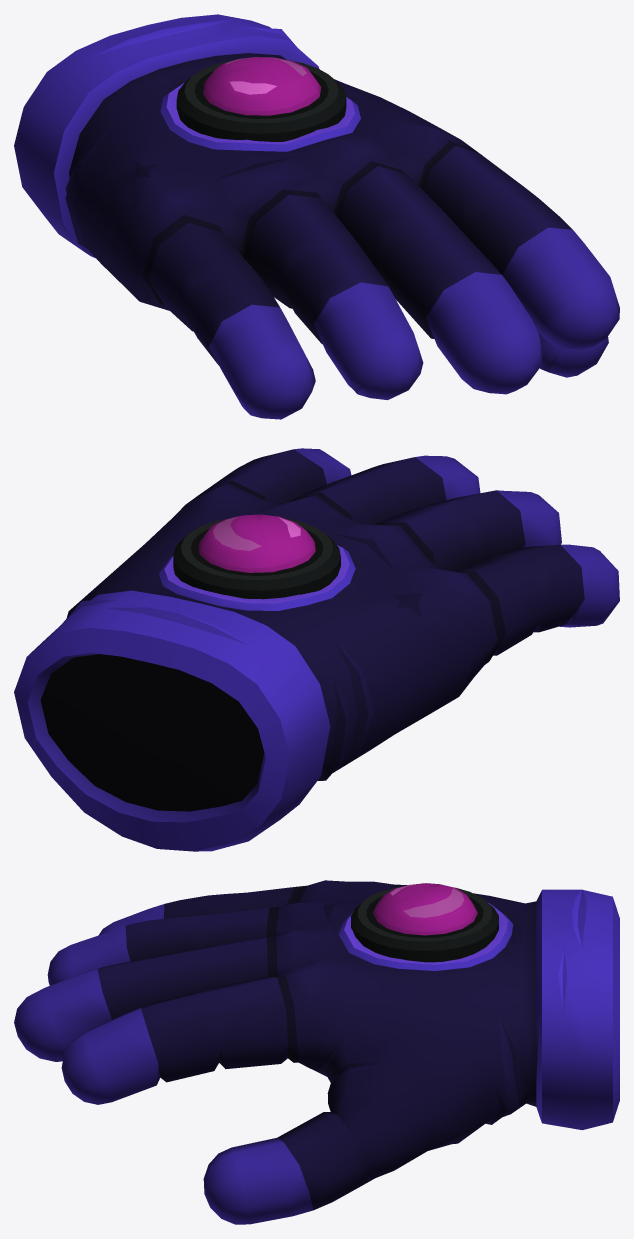
Rendered from Hands.fbx.
3 views of the same model, one above another, from view 1: azimuth 30°, elevation 25°; view 2: azimuth 150°, elevation 25°; view 3: azimuth 270°, elevation 25° (orthographic). The views are drawn at different scales.
Visible parts, largest first — view 1: R_handGlove_Hole; view 2: R_handGlove_Hole; view 3: R_handGlove_Hole.
Part boxes in pixels (x1=…): R_handGlove_Hole: x1=14, y1=14, x2=619, y2=419; R_handGlove_Hole: x1=14, y1=448, x2=619, y2=851; R_handGlove_Hole: x1=14, y1=880, x2=619, y2=1224.
Size of the model in its own units: 16.32 by 10.09 by 22.56.
